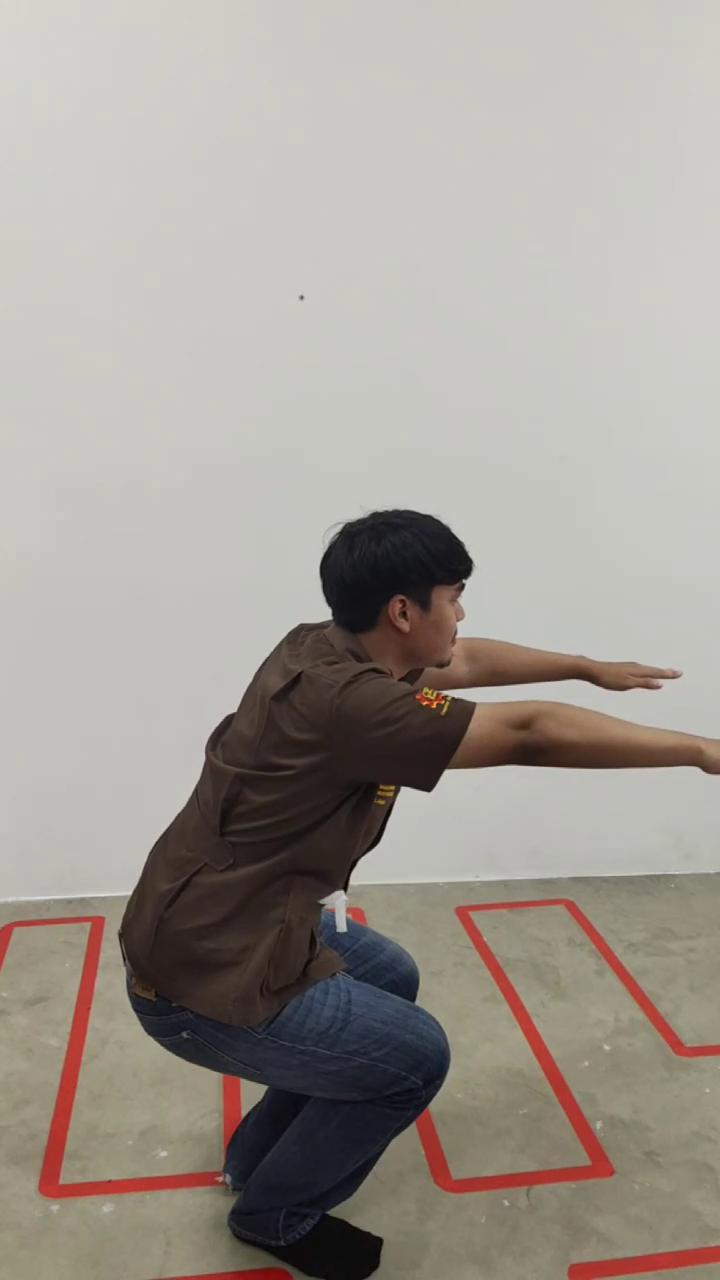squat down: (120, 510, 718, 1280)
